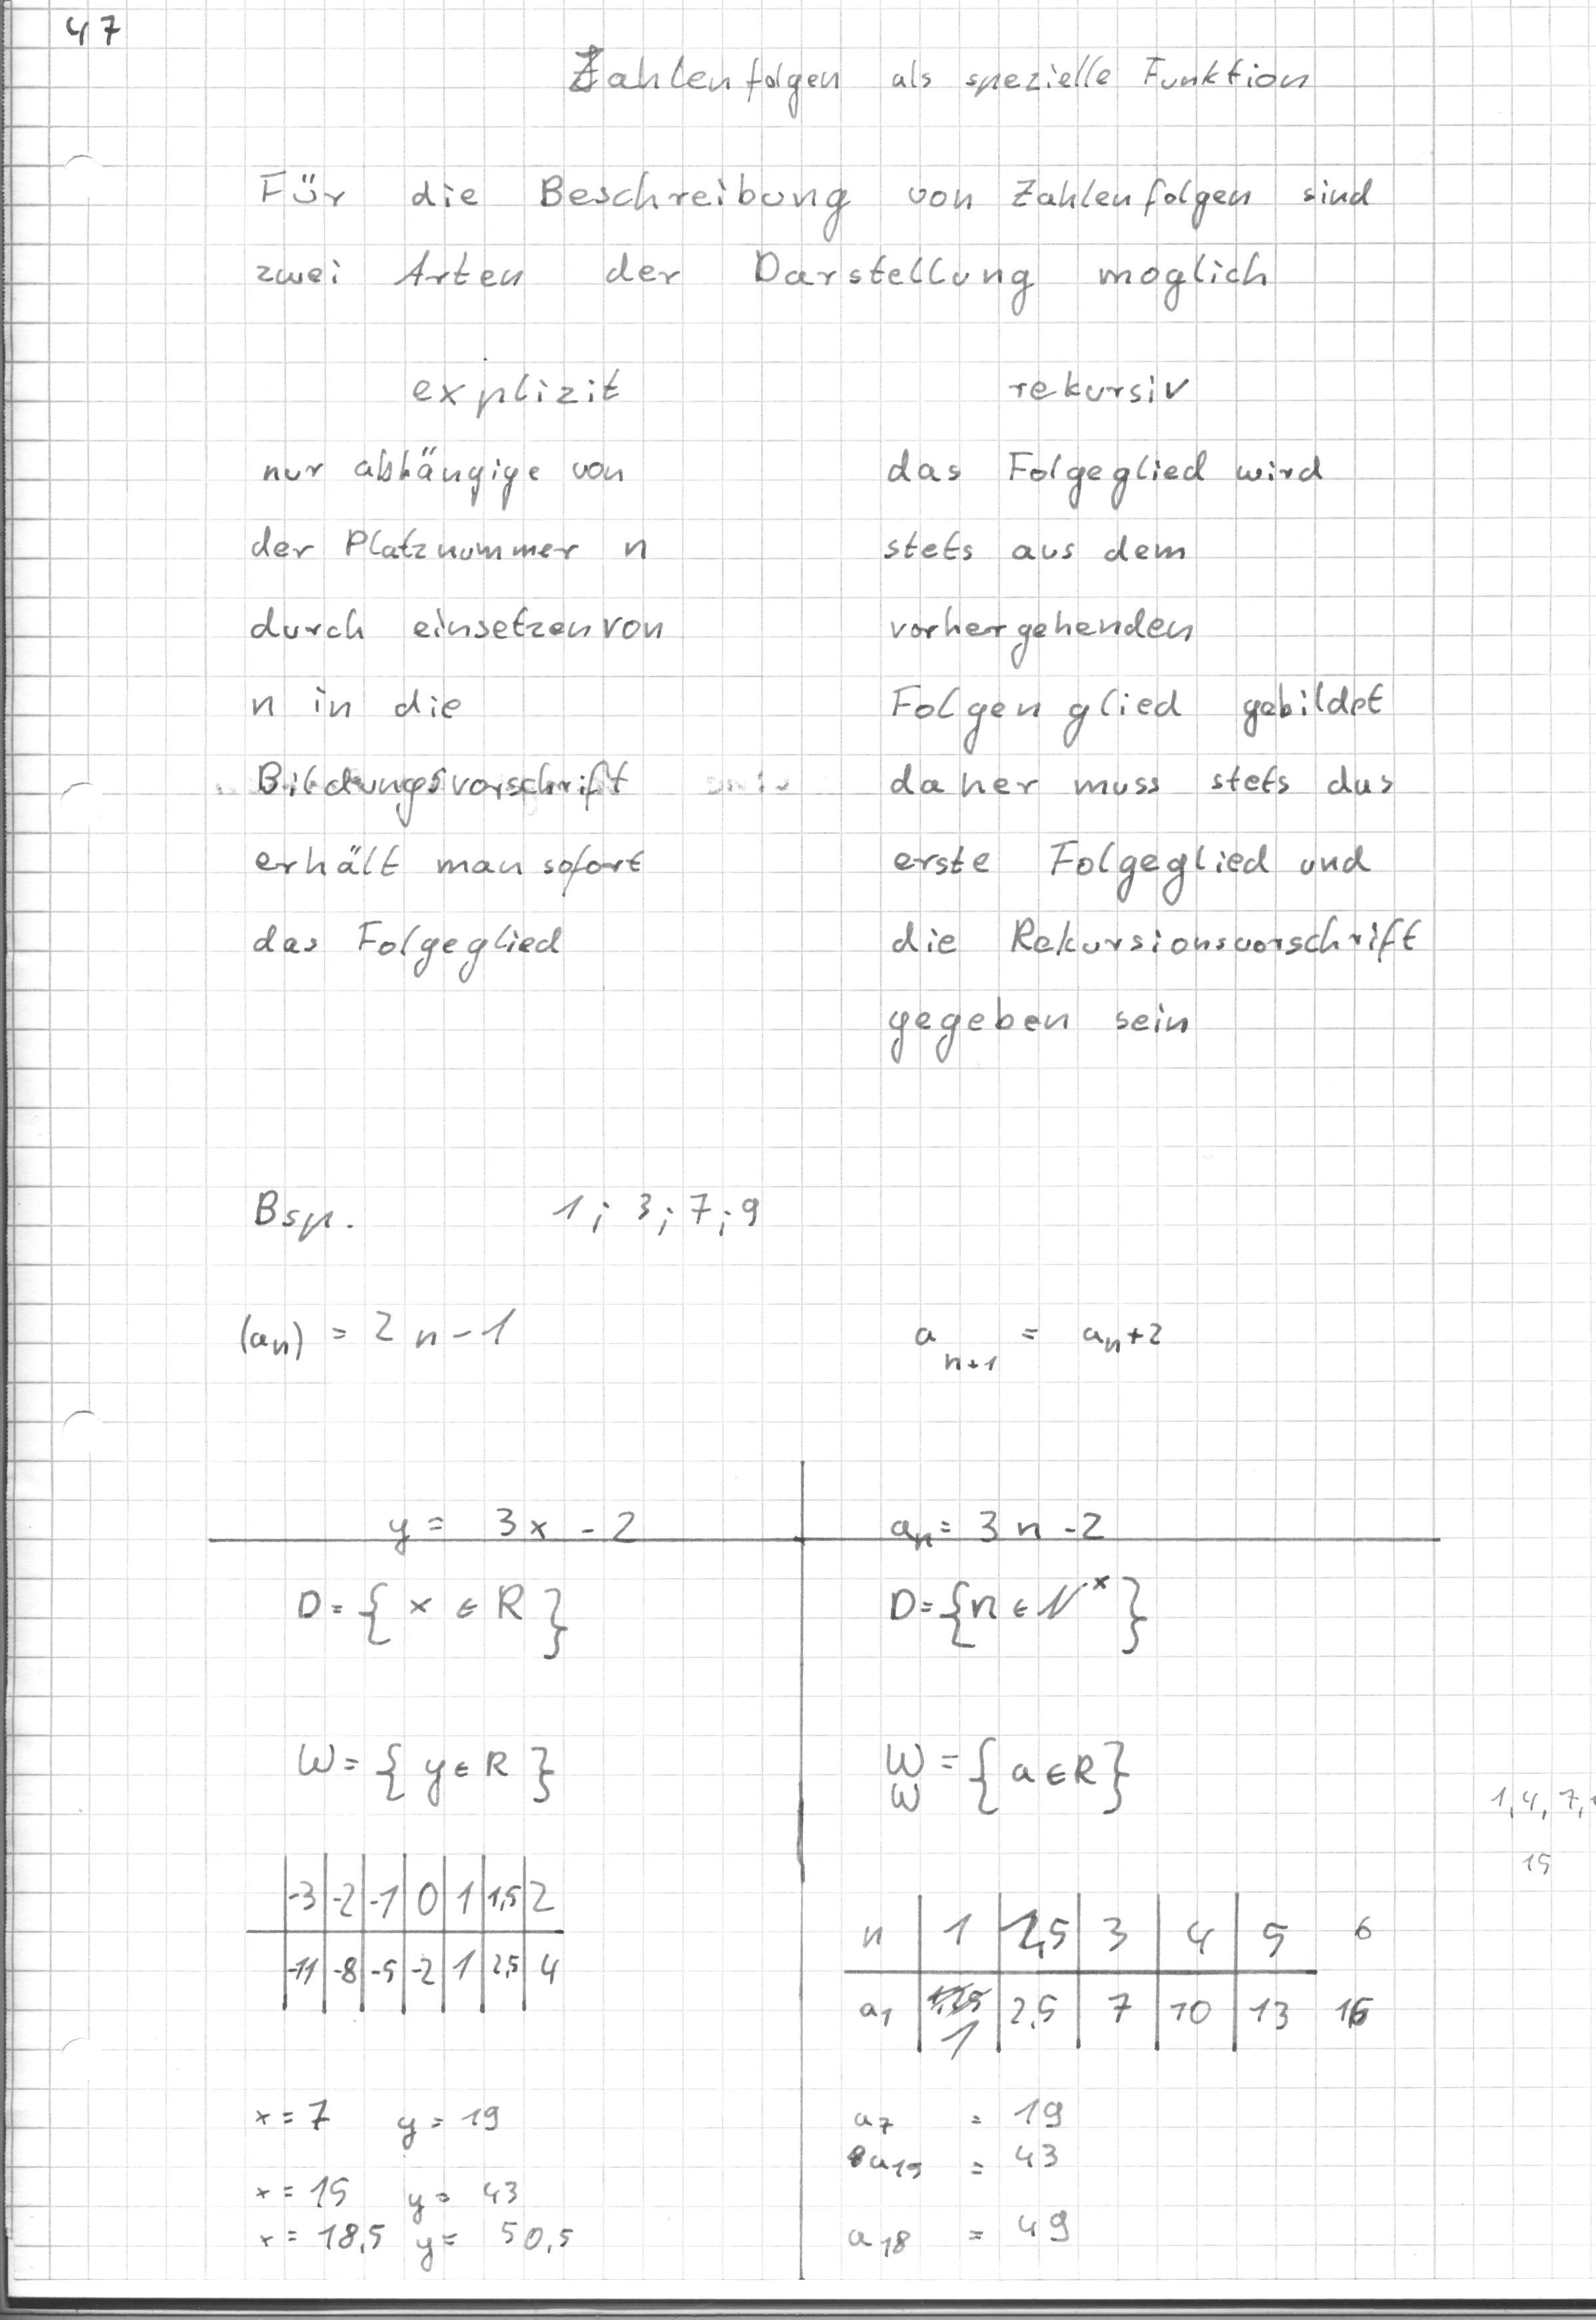word: (879, 435, 1434, 1074), (244, 435, 674, 998), (246, 159, 1380, 326), (839, 1882, 1403, 2074), (879, 1478, 1163, 1827), (282, 1567, 579, 1822), (553, 31, 1319, 129), (237, 2086, 587, 2278), (242, 1845, 581, 2030), (842, 2088, 1077, 2268), (234, 1283, 540, 1390), (898, 1294, 1193, 1397), (537, 1163, 779, 1263), (394, 352, 651, 435), (379, 1496, 649, 1562), (993, 358, 1202, 423), (234, 1171, 384, 1261)
